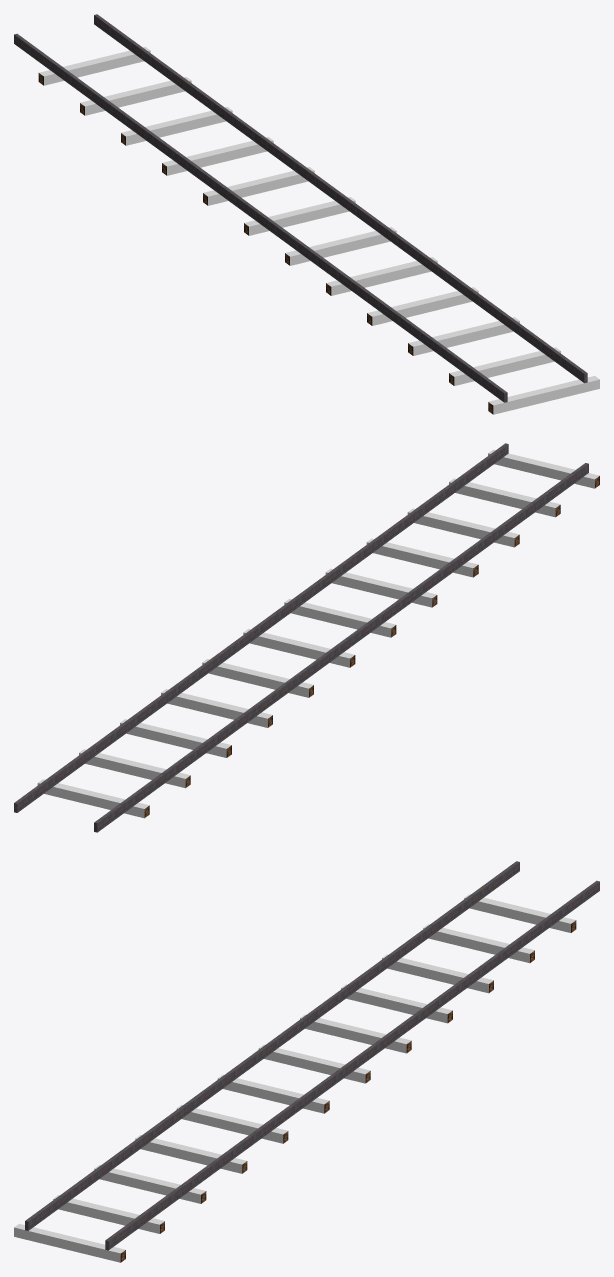
File: railSection001.dae
3 views of the same model, one above another, from view 1: azimuth 30°, elevation 25°; view 2: azimuth 150°, elevation 25°; view 3: azimuth 330°, elevation 25° (orthographic).
Visible parts, largest first — view 1: railSection001; view 2: railSection001; view 3: railSection001.
Boxes of the visible parts, <box> form: railSection001: <box>14,14,599,414</box>; railSection001: <box>14,443,599,832</box>; railSection001: <box>14,861,599,1262</box>.
Size of the model in its own units: 3 by 23.91 by 0.5.
2 materials, 2 textured.
